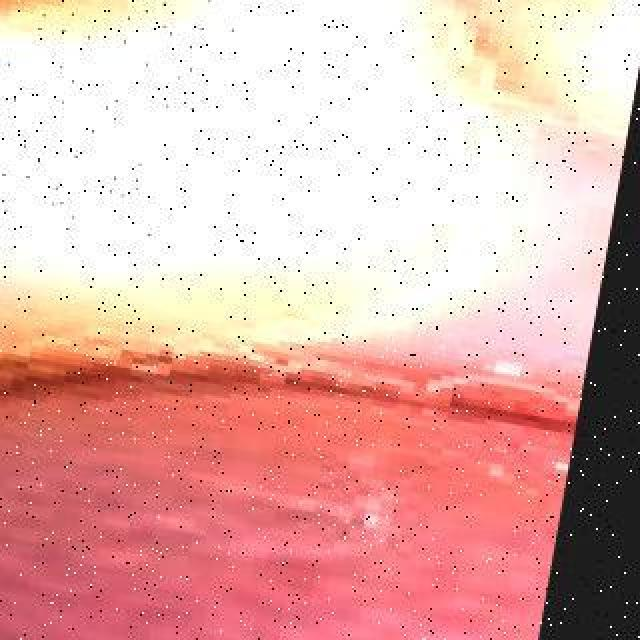cavities: (0, 0, 240, 154)
